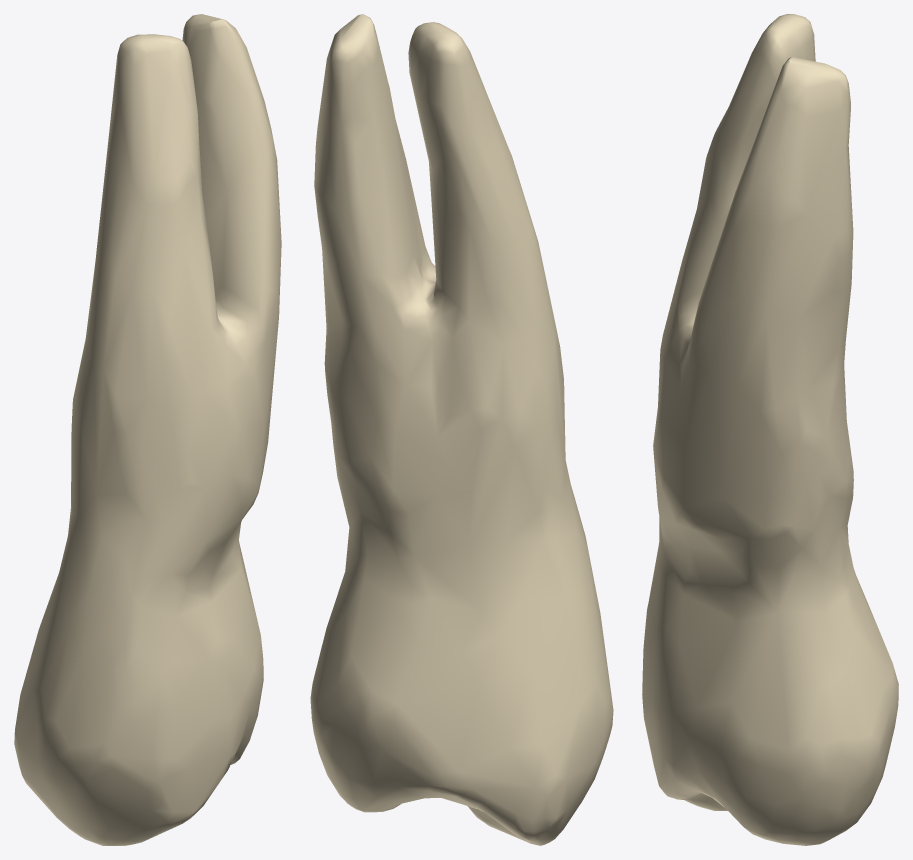
The model's file is tooth-14.glb.
3 views of the same model, side by side, from view 1: azimuth 30°, elevation 25°; view 2: azimuth 150°, elevation 25°; view 3: azimuth 270°, elevation 25° (orthographic). The views are drawn at different scales.
Visible parts, largest first — view 1: tooth-14; view 2: tooth-14; view 3: tooth-14.
Boxes of the visible parts, x1=… form: tooth-14: x1=14, y1=14, x2=281, y2=845; tooth-14: x1=310, y1=14, x2=613, y2=845; tooth-14: x1=642, y1=14, x2=898, y2=845.
Bounding box in the file's own units: 0.2378 × 0.711 × 0.2009.
